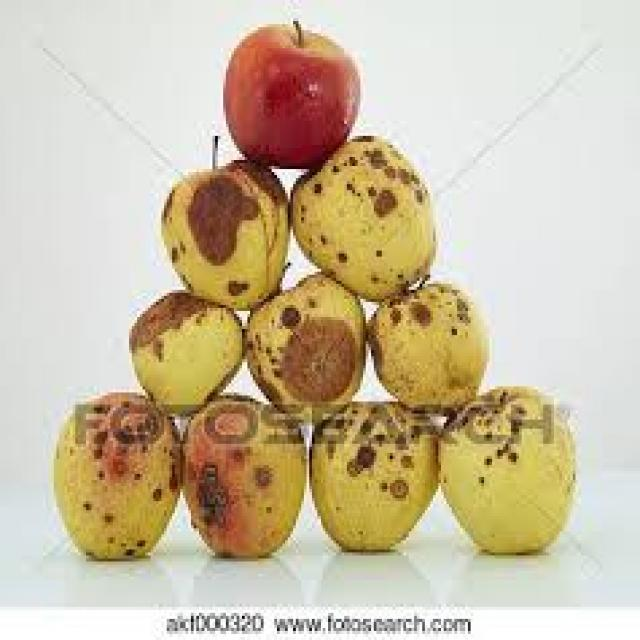organic waste: (285, 136, 433, 299), (156, 130, 285, 305), (433, 386, 570, 550), (175, 390, 304, 558), (51, 387, 178, 556), (220, 15, 355, 166), (306, 398, 436, 552), (240, 268, 360, 416), (366, 272, 484, 411), (126, 290, 242, 410)
